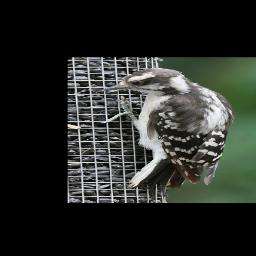Woodpecker: (98, 68, 234, 193)
